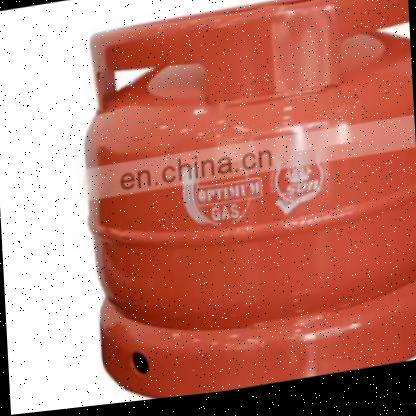gas-tank: (54, 0, 415, 410)
